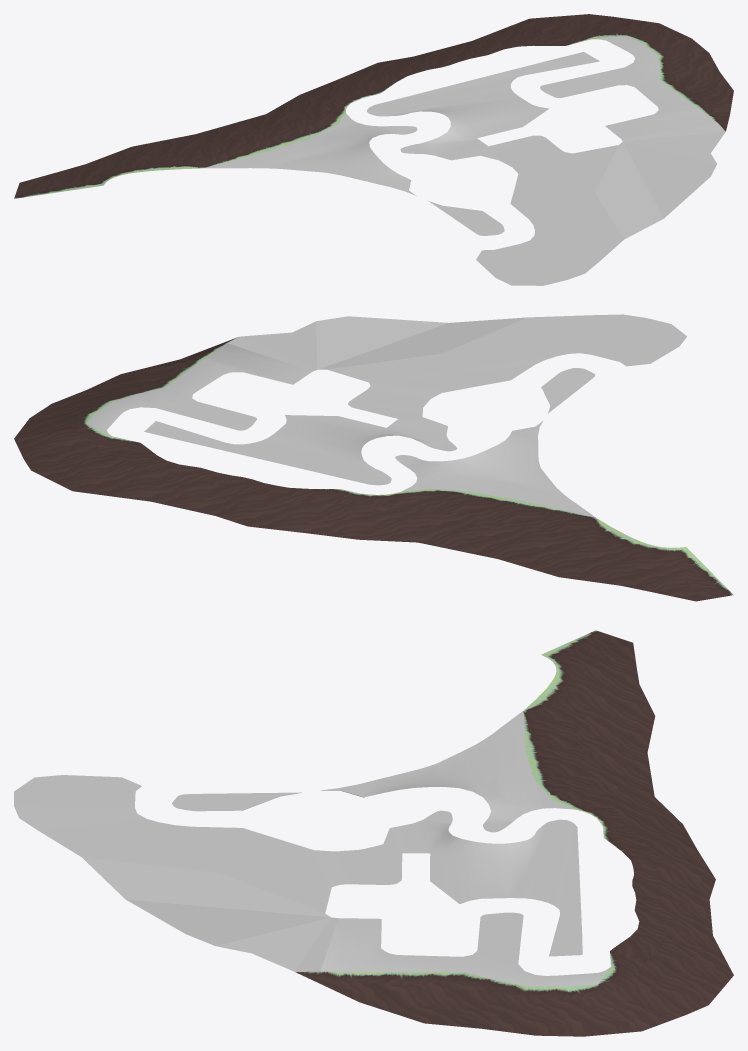
File: Terrain_1.fbx
3 views of the same model, one above another, from view 1: azimuth 30°, elevation 25°; view 2: azimuth 150°, elevation 25°; view 3: azimuth 270°, elevation 25° (orthographic). The views are drawn at different scales.
Parts seen in each view (by area): view 1: Trottoirs.003, Trottoirs.008, Trottoirs.005; view 2: Trottoirs.003, Trottoirs.008, Trottoirs.005; view 3: Trottoirs.003, Trottoirs.008, Trottoirs.005.
Boxes of the visible parts, <box> form: Trottoirs.003: <box>203,35,725,285</box>; Trottoirs.008: <box>21,14,733,182</box>; Trottoirs.005: <box>14,29,725,198</box>; Trottoirs.003: <box>86,314,686,517</box>; Trottoirs.008: <box>14,337,695,601</box>; Trottoirs.005: <box>71,340,733,601</box>; Trottoirs.003: <box>14,711,610,986</box>; Trottoirs.008: <box>295,643,733,1036</box>; Trottoirs.005: <box>296,630,666,999</box>.
Bounding box in the file's own units: 56413 × 1533 × 42236.
